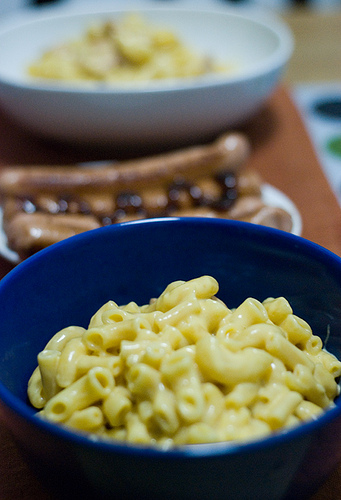macncheese: (25, 274, 339, 448)
